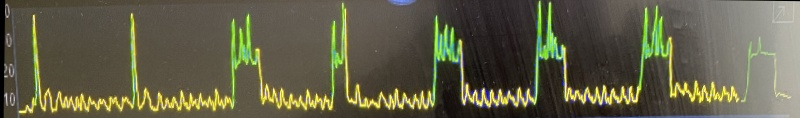hydrop_pressure: (13, 0, 762, 118)
